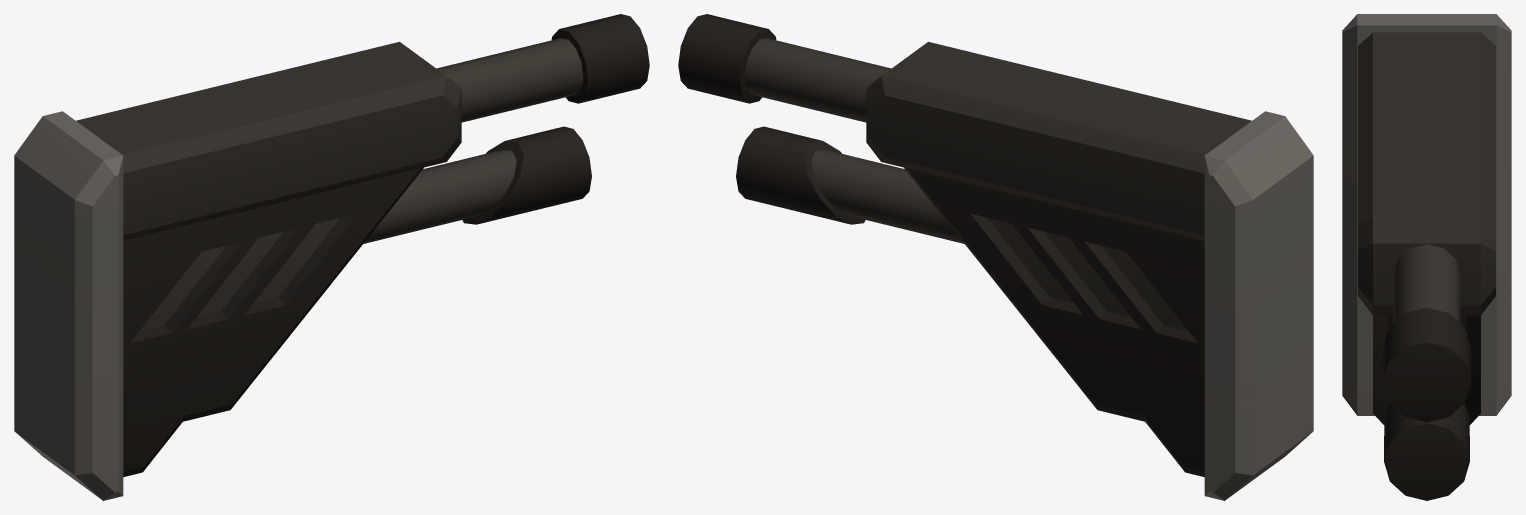
The model's file is Shotgun4_ButtstockLight.fbx.
3 renders of one model, left to right at view 1: azimuth 30°, elevation 25°; view 2: azimuth 150°, elevation 25°; view 3: azimuth 270°, elevation 25°, orthographic. The views are drawn at different scales.
Parts seen in each view (by area): view 1: Shotgun4_ButtstockLight; view 2: Shotgun4_ButtstockLight; view 3: Shotgun4_ButtstockLight.
Part boxes in pixels (x1=…): Shotgun4_ButtstockLight: x1=14, y1=14, x2=649, y2=500; Shotgun4_ButtstockLight: x1=678, y1=14, x2=1313, y2=500; Shotgun4_ButtstockLight: x1=1342, y1=14, x2=1511, y2=500.
Size of the model in its own units: 25.61 by 14.22 by 5.59.
